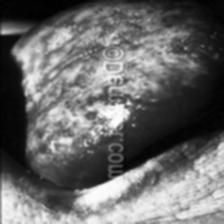Non-Cancerous Skin Condition: (26, 15, 136, 181)
